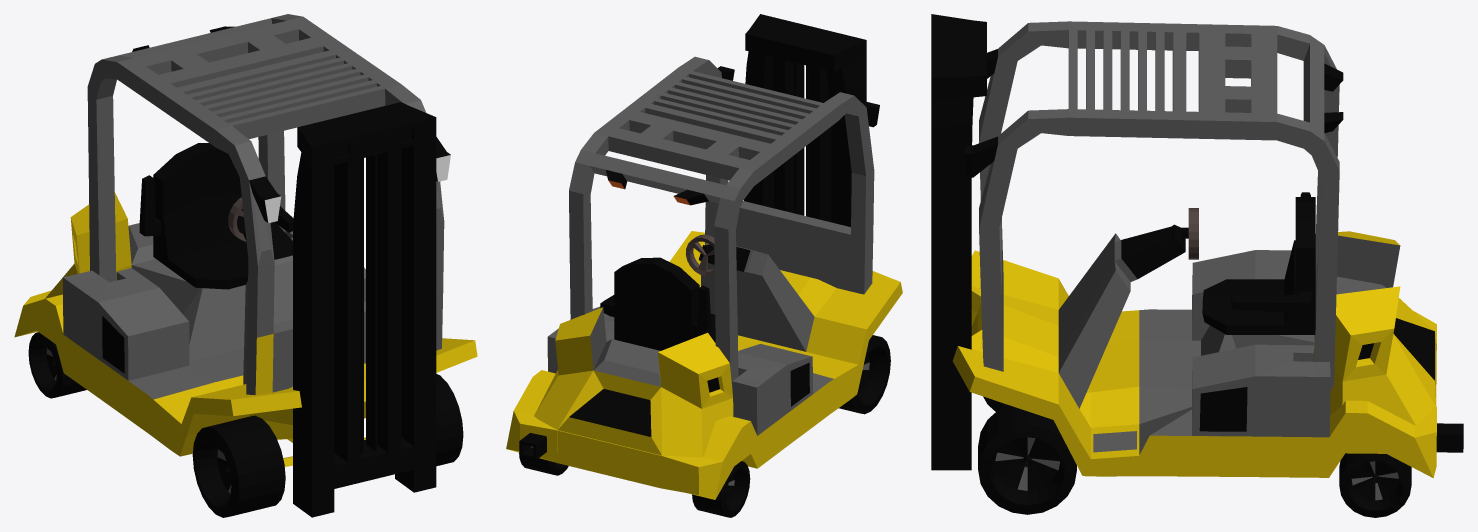
File: FLT.fbx
The picture shows the model from 3 angles, left to right: view 1: azimuth 30°, elevation 25°; view 2: azimuth 150°, elevation 25°; view 3: azimuth 270°, elevation 25°; orthographic projection. The views are drawn at different scales.
Visible parts, largest first — view 1: FLT TRUCK, Front Right Wheel, Back Right Wheel, Front Left Wheel; view 2: FLT TRUCK, Front Right Wheel, Back Right Wheel, Steering Wheel, Back Left Wheel; view 3: FLT TRUCK, Front Left Wheel, Back Left Wheel.
Part boxes in pixels (bbox=[...]): FLT TRUCK: bbox=[14, 14, 477, 517]; Front Right Wheel: bbox=[192, 415, 285, 517]; Back Right Wheel: bbox=[28, 332, 86, 398]; Front Left Wheel: bbox=[436, 374, 463, 466]; FLT TRUCK: bbox=[506, 14, 902, 499]; Front Right Wheel: bbox=[839, 335, 890, 414]; Back Right Wheel: bbox=[692, 461, 750, 517]; Steering Wheel: bbox=[686, 234, 714, 276]; Back Left Wheel: bbox=[519, 453, 568, 475]; FLT TRUCK: bbox=[931, 14, 1463, 478]; Front Left Wheel: bbox=[978, 405, 1076, 514]; Back Left Wheel: bbox=[1339, 453, 1411, 517].
Bounding box in the file's own units: 542 × 823 × 966.
